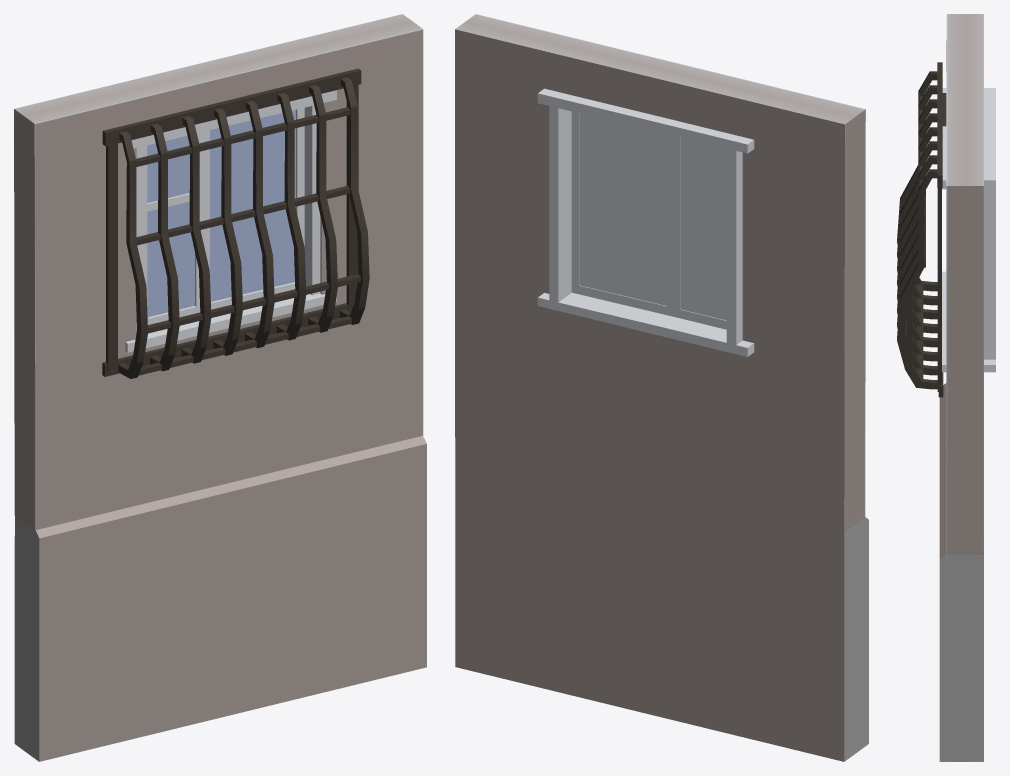
The model's file is Hub_1st_floor_type1.FBX.
3 renders of one model, left to right at view 1: azimuth 30°, elevation 25°; view 2: azimuth 150°, elevation 25°; view 3: azimuth 270°, elevation 25°, orthographic. The views are drawn at different scales.
Visible parts, largest first — view 1: Hub_1st_floor_type1_027; view 2: Hub_1st_floor_type1_027; view 3: Hub_1st_floor_type1_027.
Part boxes in pixels (left/top/right/bottom): Hub_1st_floor_type1_027: left=14, top=14, right=426, bottom=761; Hub_1st_floor_type1_027: left=455, top=14, right=868, bottom=761; Hub_1st_floor_type1_027: left=897, top=14, right=995, bottom=761.
Size of the model in its own units: 712 by 1113 by 173.
1 material, 1 textured.
